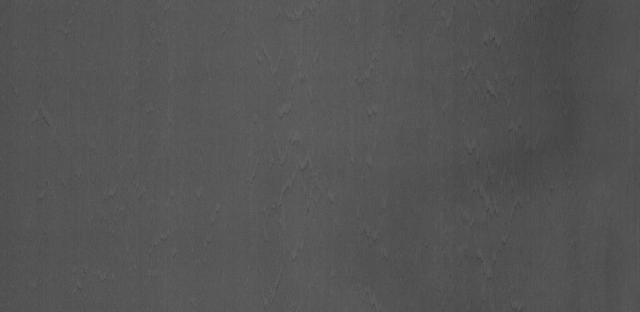silk_spot: (262, 85, 338, 223)
